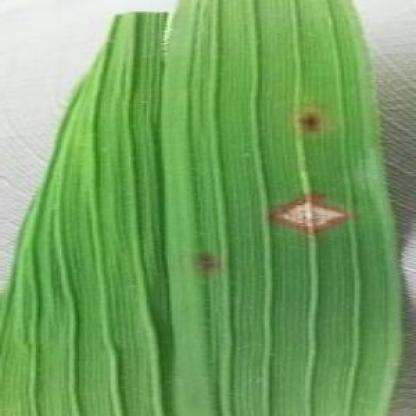Rice blast: (265, 198, 366, 252)
